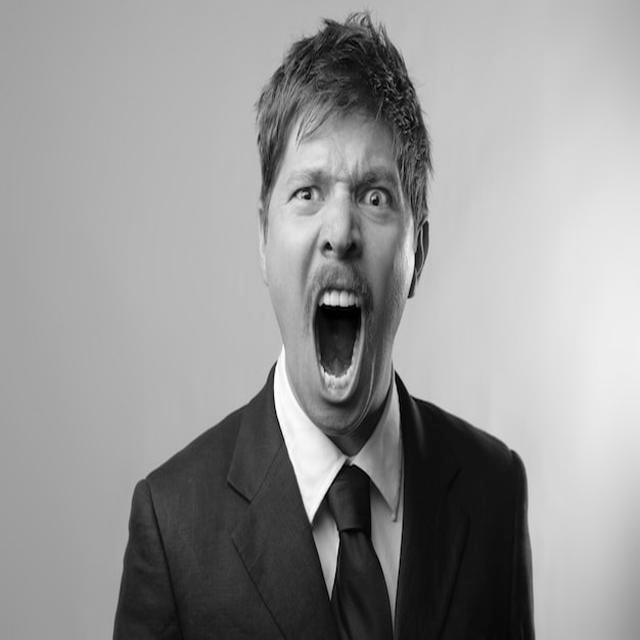Angry: (265, 102, 416, 430)
